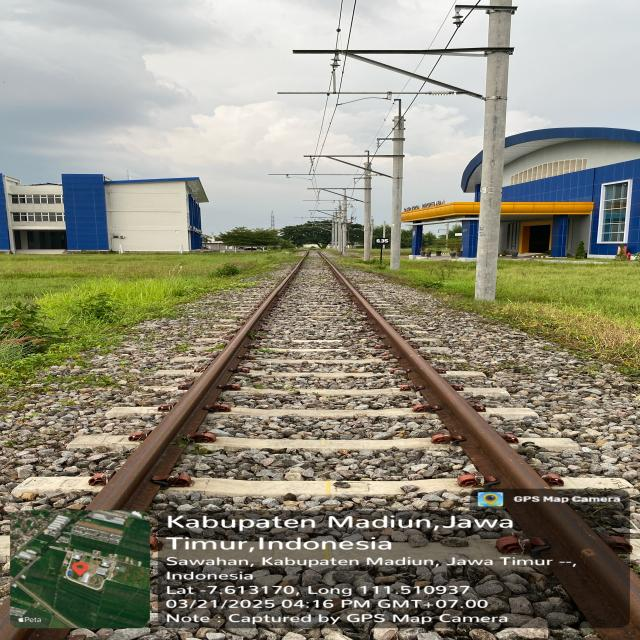rail-detection: (318, 250, 640, 640), (89, 251, 308, 510)
